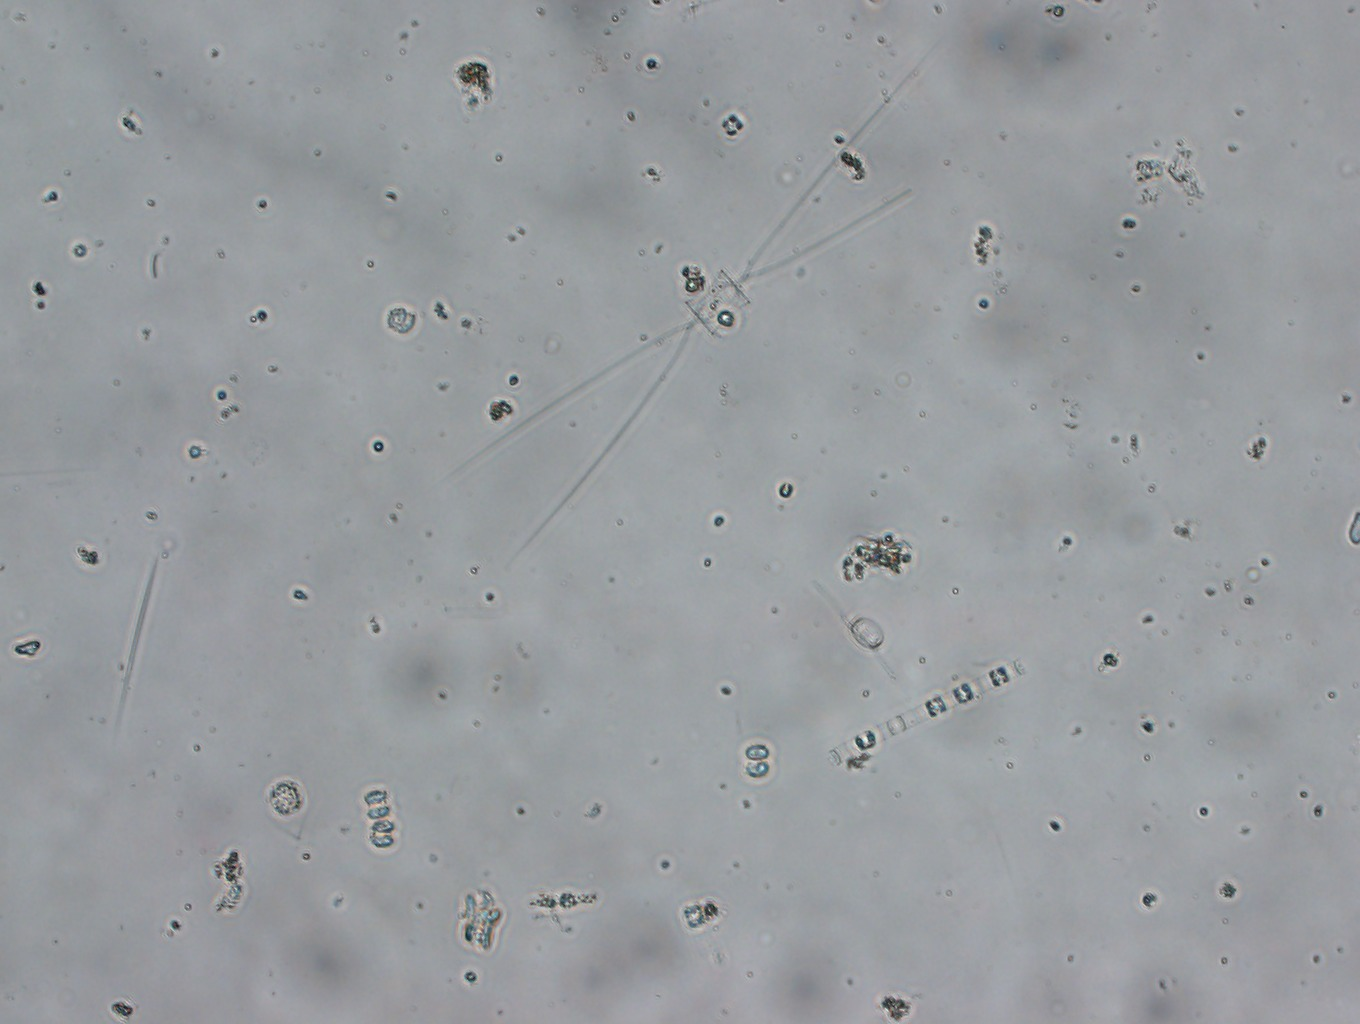chaetoceros: (496, 30, 955, 567)
skeletonema: (824, 645, 1047, 777)
